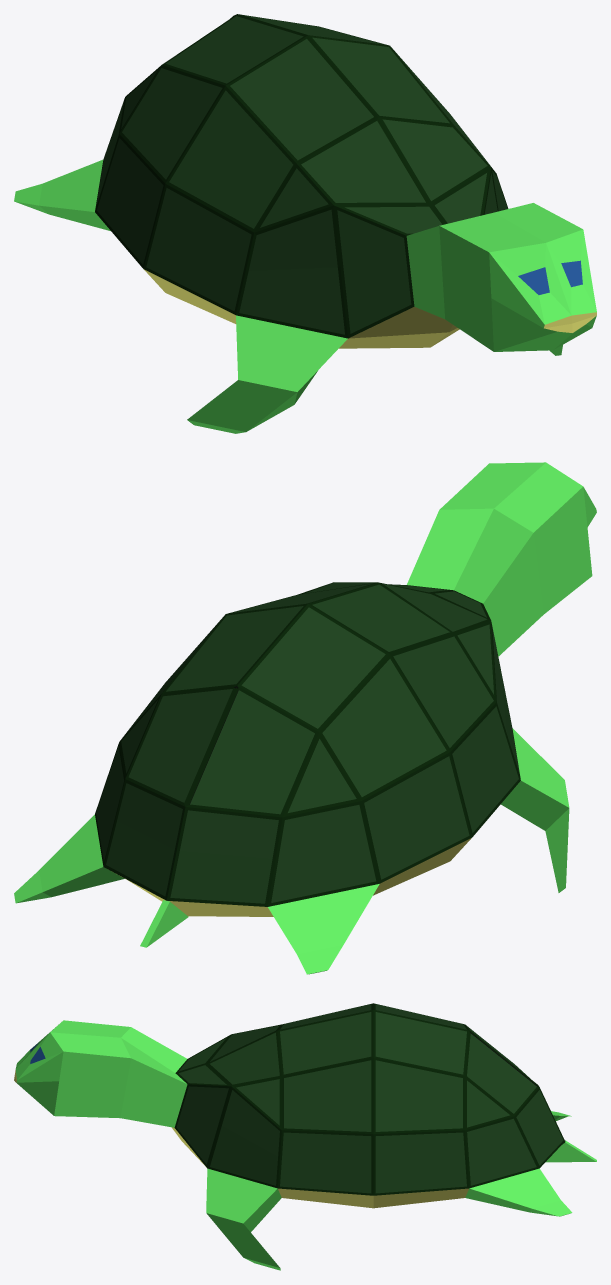
The model's file is turtle.fbx.
The picture shows the model from 3 angles, top to bottom: view 1: azimuth 30°, elevation 25°; view 2: azimuth 150°, elevation 25°; view 3: azimuth 270°, elevation 25°; orthographic projection. The views are drawn at different scales.
Parts seen in each view (by area): view 1: Cube; view 2: Cube; view 3: Cube.
Part boxes in pixels (x1=…): Cube: x1=14, y1=14, x2=596, y2=433; Cube: x1=14, y1=462, x2=596, y2=974; Cube: x1=14, y1=1003, x2=596, y2=1270.
Bounding box in the file's own units: 230 × 172 × 452.
